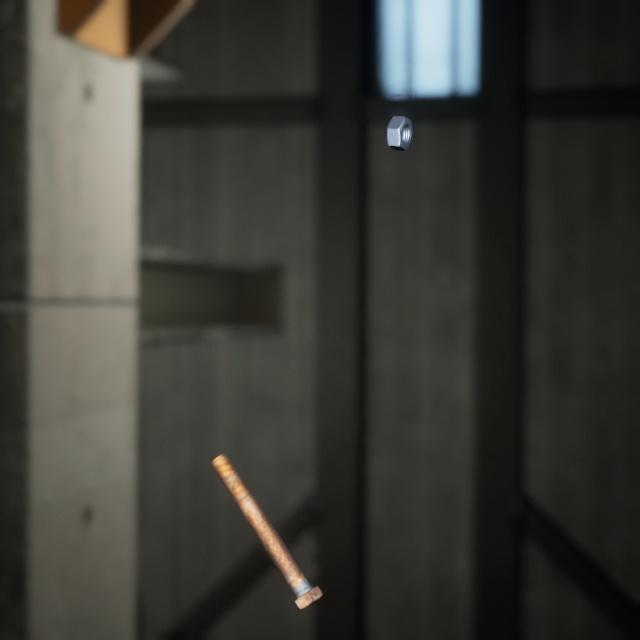bolt: (206, 426, 327, 592)
nut: (382, 100, 417, 143)
